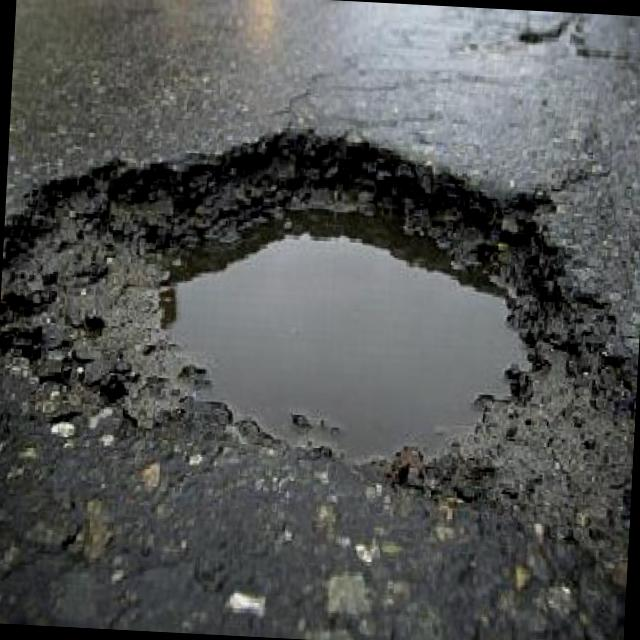Lubang: (0, 131, 638, 594)
